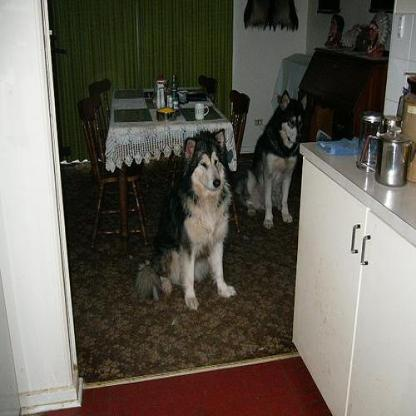malamute: (137, 128, 238, 306), (243, 86, 309, 228)
